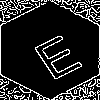E: (25, 25, 86, 82)
